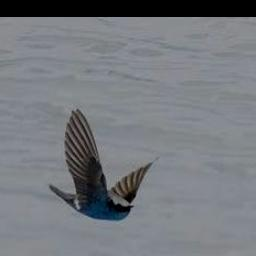Swallow: (47, 111, 157, 222)
